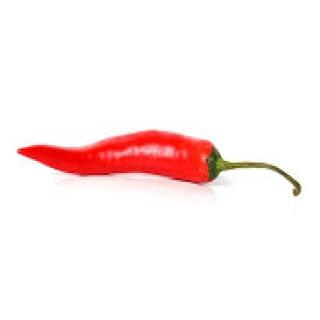Cabai Merah: (22, 122, 320, 185)
